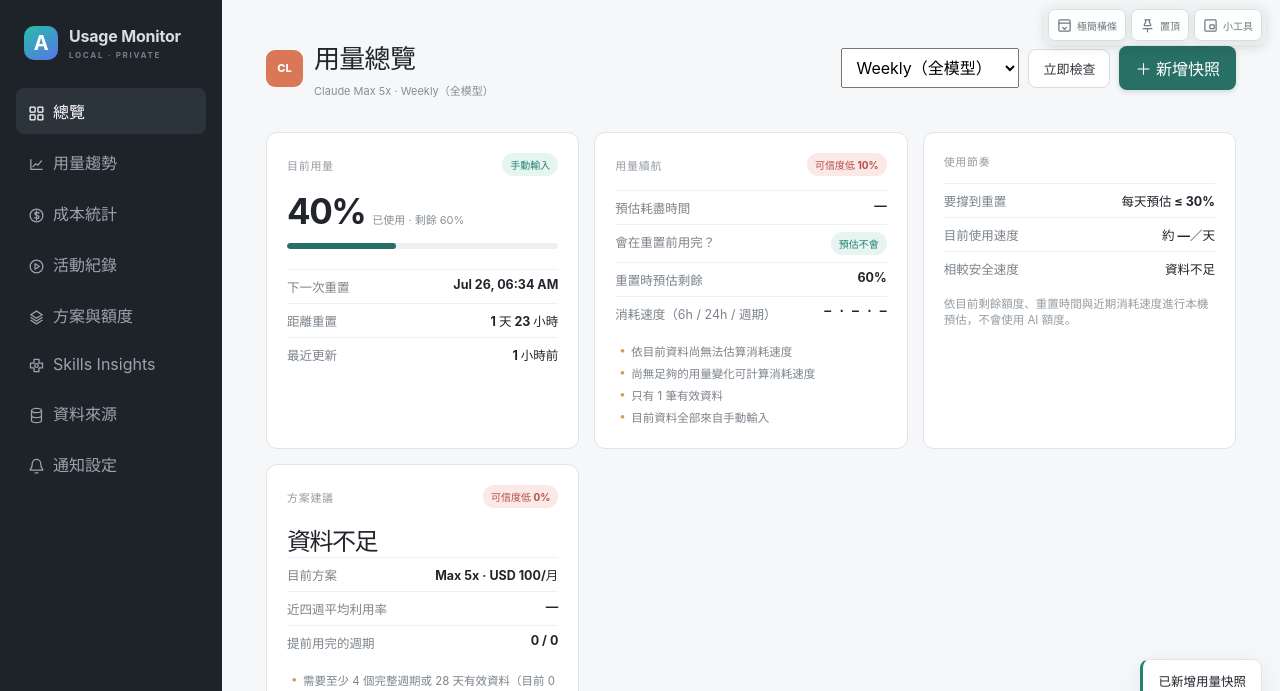
Test case: Dashboard › rejects an invalid manual snapshot with an error message
Expected: the text "40%" is shown, [287,190,365,232]
Click the button "＋ 新增快照". click: (1178, 68)
box: [1120,46,1236,90]
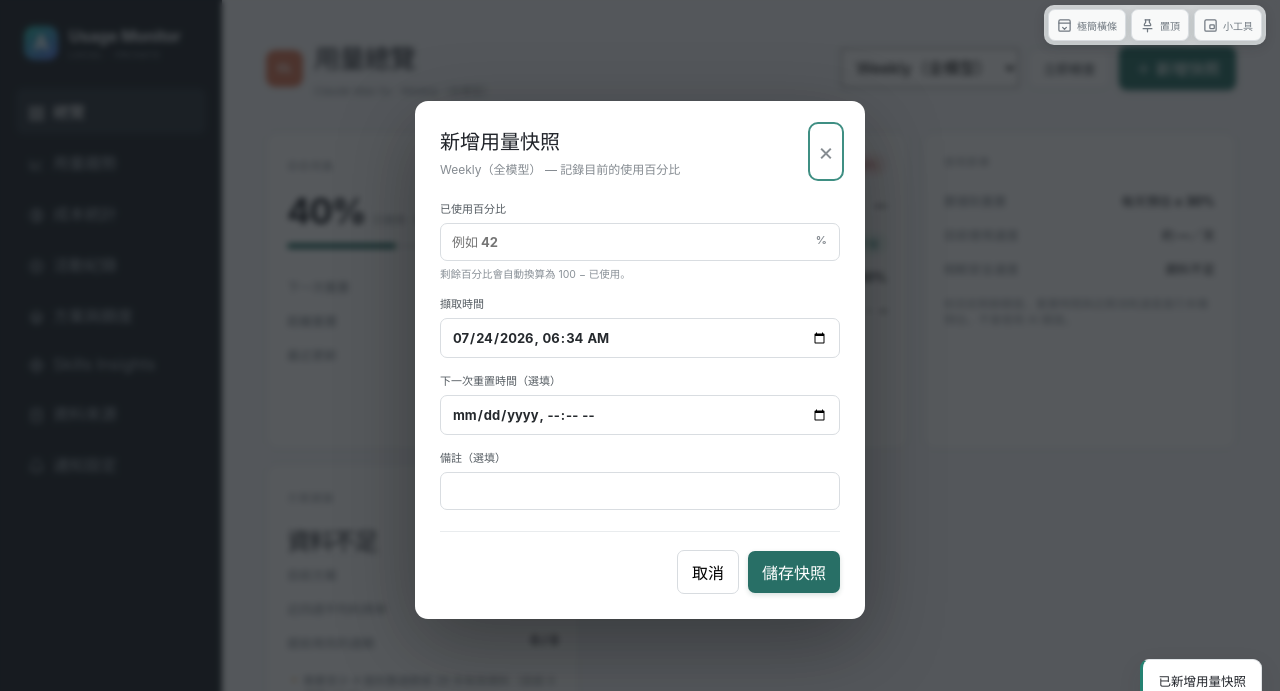
Type "150" into the number field labelled "已使用百分比". click: (640, 242)
box: [440,223,840,261]
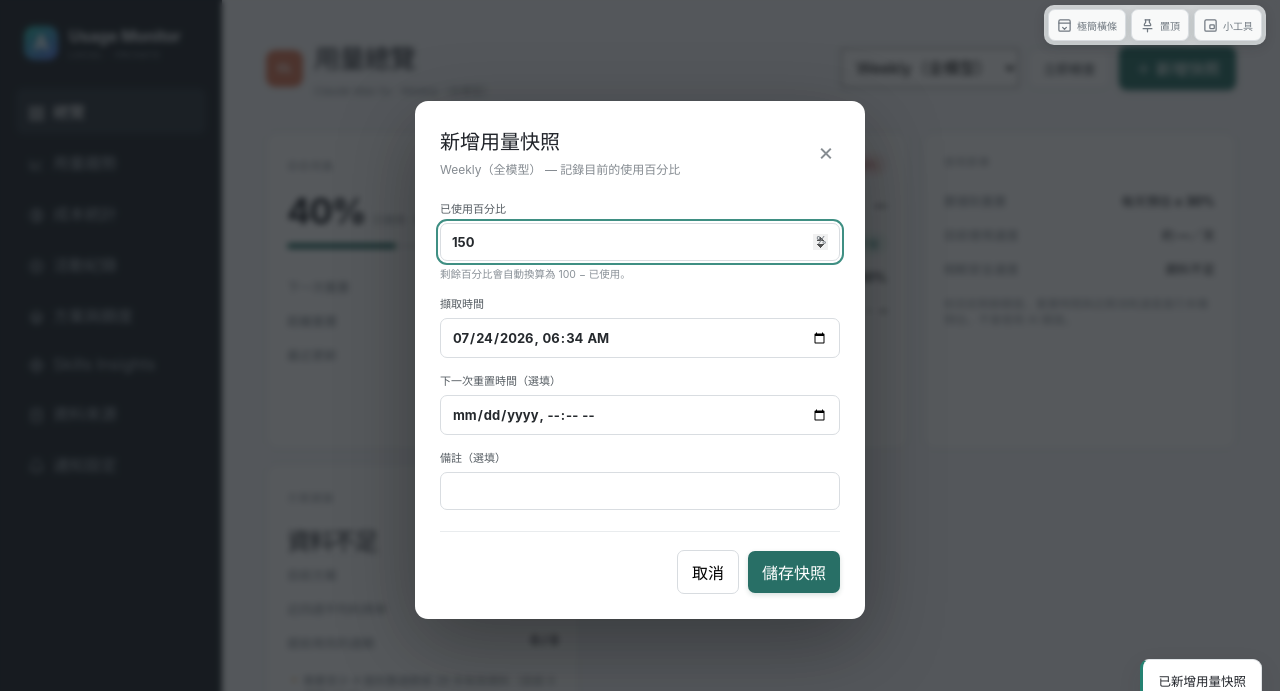
Click the button "儲存快照". click: (794, 572)
box: [748,551,840,593]
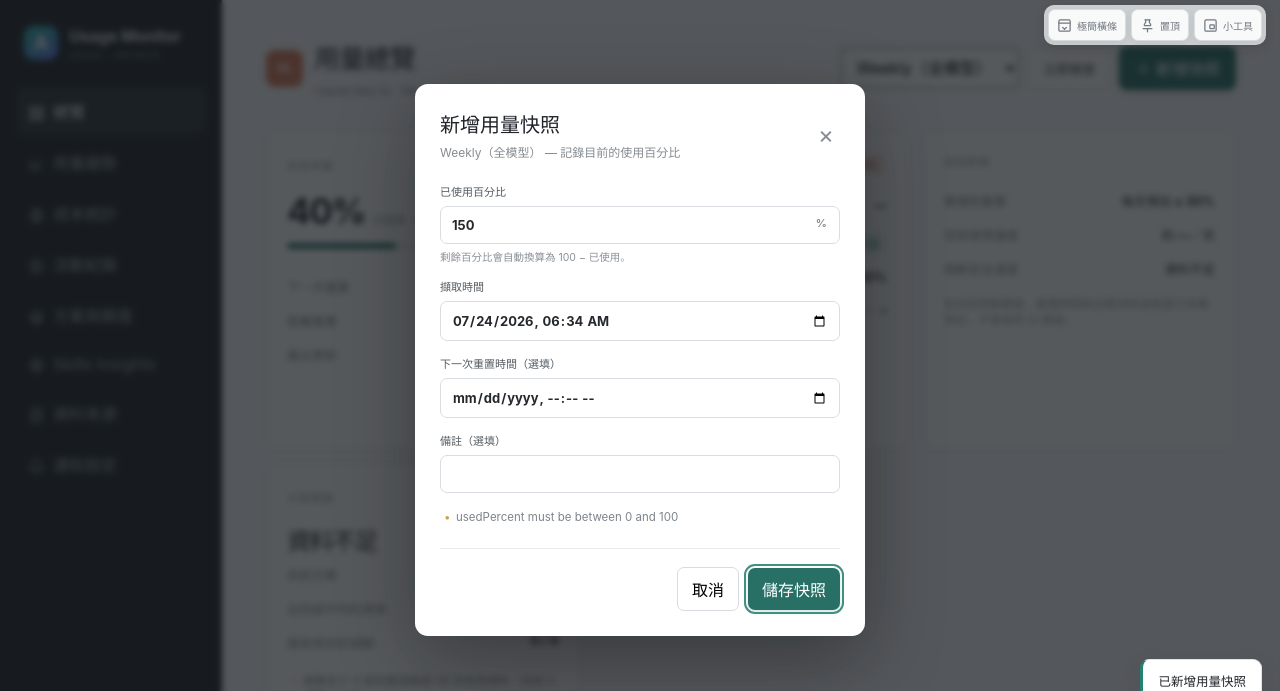
Expected: the dialog is shown, [415,84,865,636]
Expected: the message "usedPercent must be between 0 and 100" is shown, [456,510,678,524]
